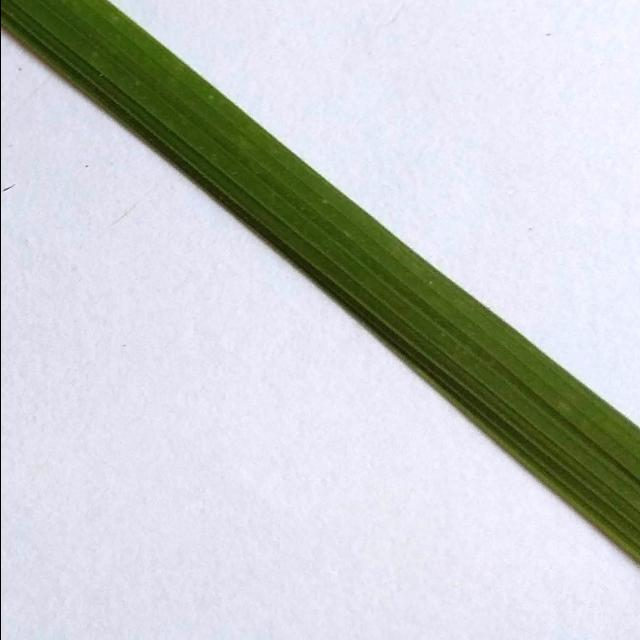healthy: (0, 0, 640, 578)
